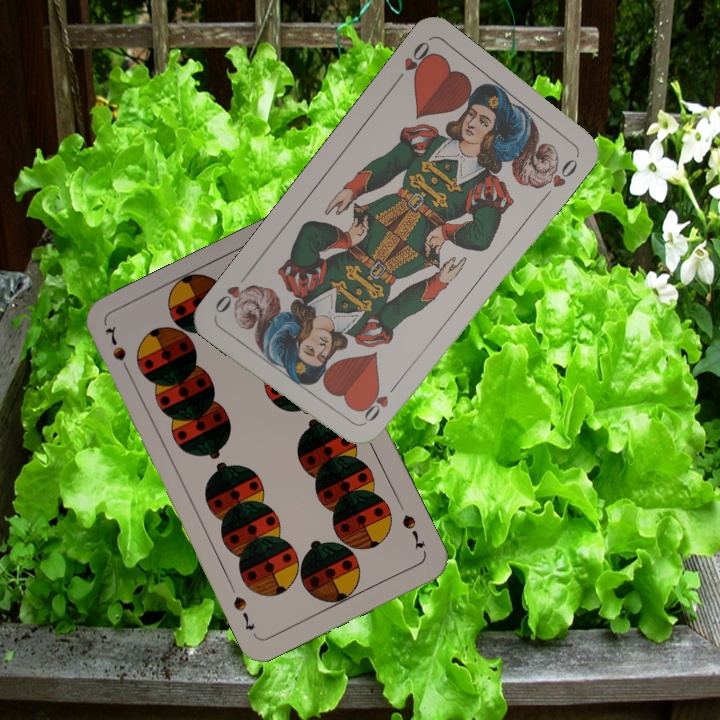HO: (390, 37, 436, 87), (356, 379, 400, 429)
S7: (101, 321, 133, 378), (398, 510, 429, 551)
